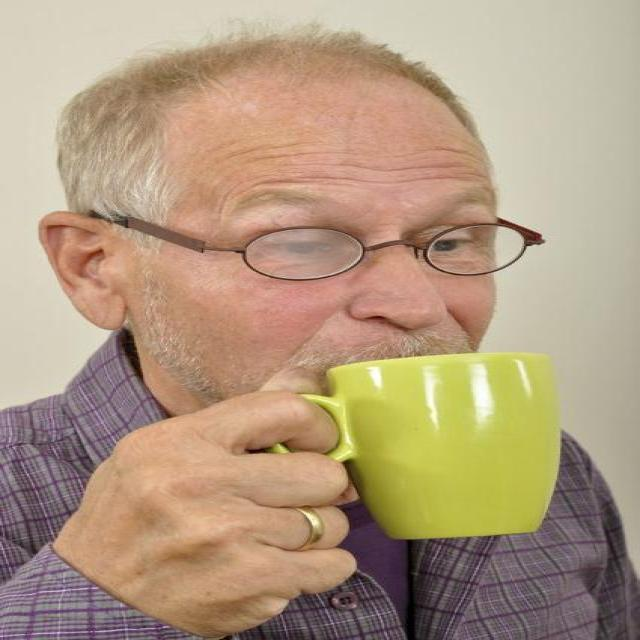glasses: (145, 222, 554, 282)
